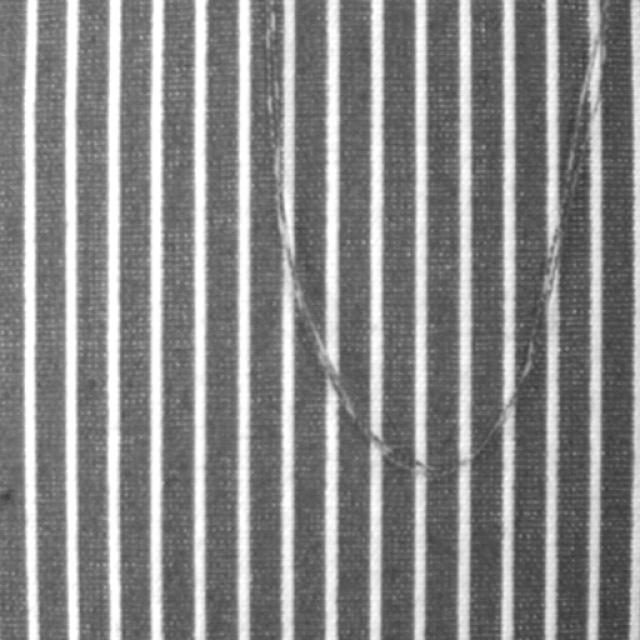Foreign-Body-Defect: (259, 6, 623, 481)
